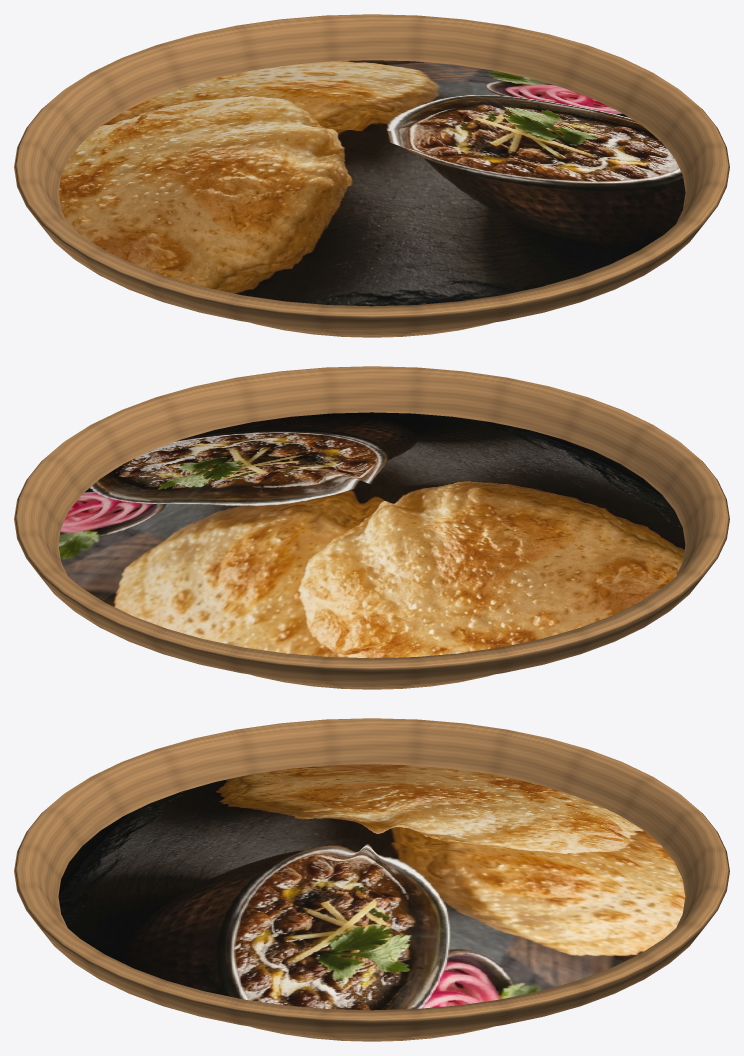
File: chole-bhature.glb
The picture shows the model from 3 angles, top to bottom: view 1: azimuth 30°, elevation 25°; view 2: azimuth 150°, elevation 25°; view 3: azimuth 270°, elevation 25°; orthographic projection.
Visible parts, largest first — view 1: FoodMound, BambooBowl; view 2: FoodMound, BambooBowl; view 3: FoodMound, BambooBowl.
Part boxes in pixels (left/top/right/bottom): FoodMound: left=58, top=60, right=685, bottom=306; BambooBowl: left=14, top=14, right=729, bottom=337; FoodMound: left=58, top=412, right=685, bottom=658; BambooBowl: left=14, top=366, right=729, bottom=689; FoodMound: left=58, top=764, right=685, bottom=1010; BambooBowl: left=14, top=718, right=729, bottom=1041.
Bounding box in the file's own units: 0.27 × 0.047 × 0.27.
Materials: 2 (2 with a texture image).
